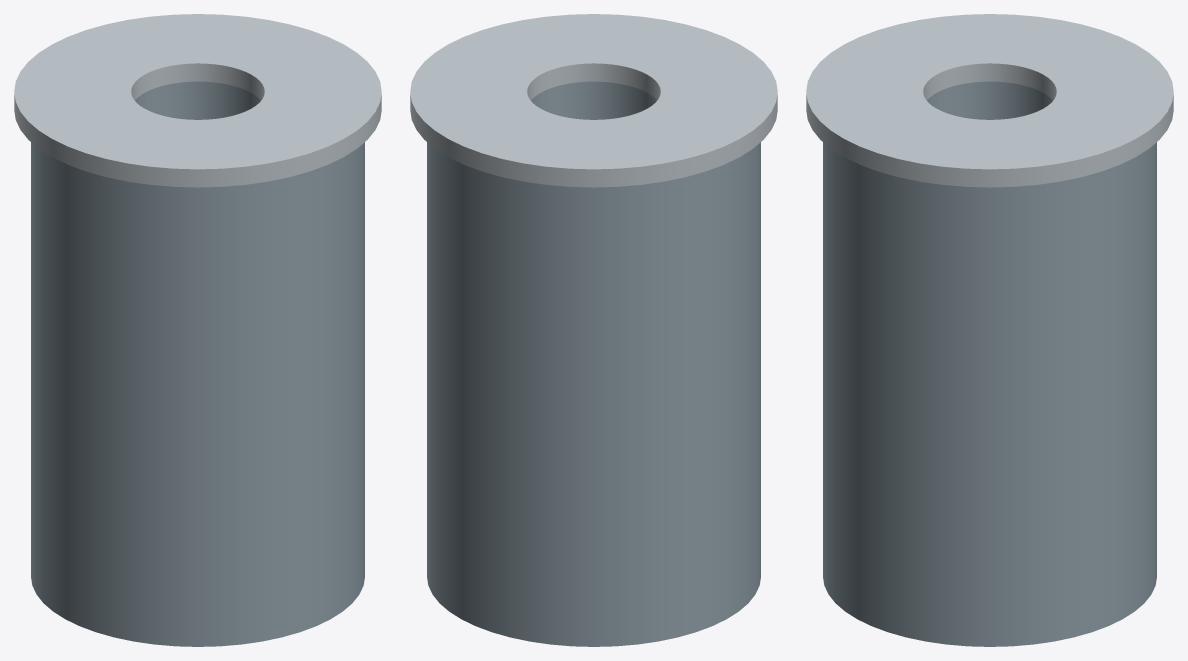
The model's file is POCKET9.glb.
3 views of the same model, side by side, from view 1: azimuth 30°, elevation 25°; view 2: azimuth 150°, elevation 25°; view 3: azimuth 270°, elevation 25° (orthographic).
Parts seen in each view (by area): view 1: POCKET9/0000_receiver_bore, POCKET9/0001_seating_face; view 2: POCKET9/0000_receiver_bore, POCKET9/0001_seating_face; view 3: POCKET9/0000_receiver_bore, POCKET9/0001_seating_face.
Part boxes in pixels (x1,y1,x2,y2): POCKET9/0000_receiver_bore: (31, 81, 364, 646); POCKET9/0001_seating_face: (14, 14, 381, 187); POCKET9/0000_receiver_bore: (427, 81, 760, 646); POCKET9/0001_seating_face: (410, 14, 777, 187); POCKET9/0000_receiver_bore: (823, 81, 1156, 646); POCKET9/0001_seating_face: (806, 14, 1173, 187).
Size of the model in its own units: 0.11 by 0.16 by 0.11.
